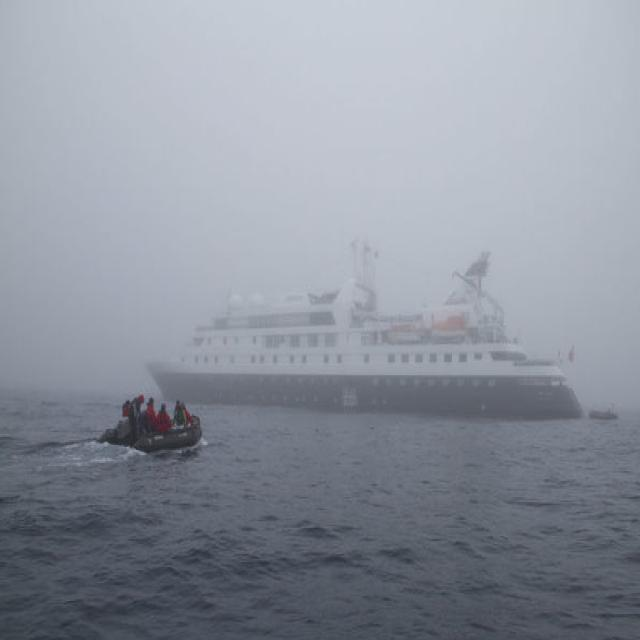passenger ship: (147, 246, 603, 405), (107, 382, 205, 442)
